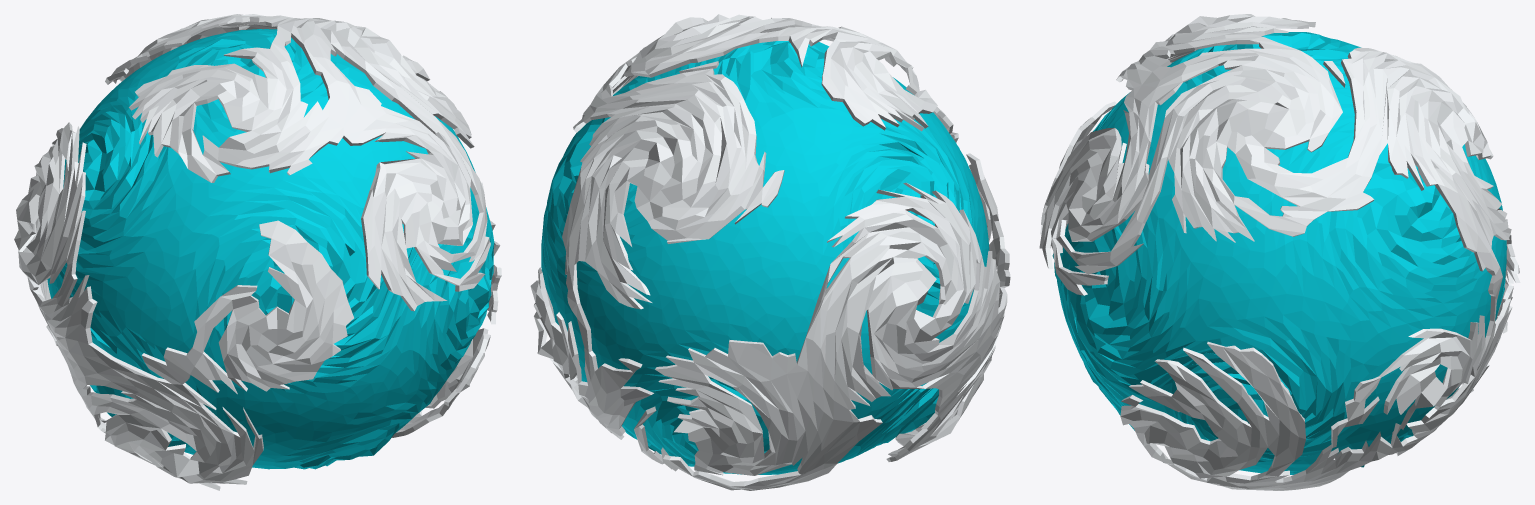
The model's file is PlanetBlueWithClouds-transformed.glb.
3 views of the same model, side by side, from view 1: azimuth 30°, elevation 25°; view 2: azimuth 150°, elevation 25°; view 3: azimuth 270°, elevation 25° (orthographic).
Parts seen in each view (by area): view 1: Planet_16; view 2: Planet_16; view 3: Planet_16.
Part boxes in pixels (x1,y1,x2,y2): Planet_16: [14, 14, 501, 490]; Planet_16: [530, 14, 1010, 490]; Planet_16: [1039, 14, 1520, 490].
Bounding box in the file's own units: 21.19 × 20.16 × 21.23.
Materials: 1 (1 with a texture image).
